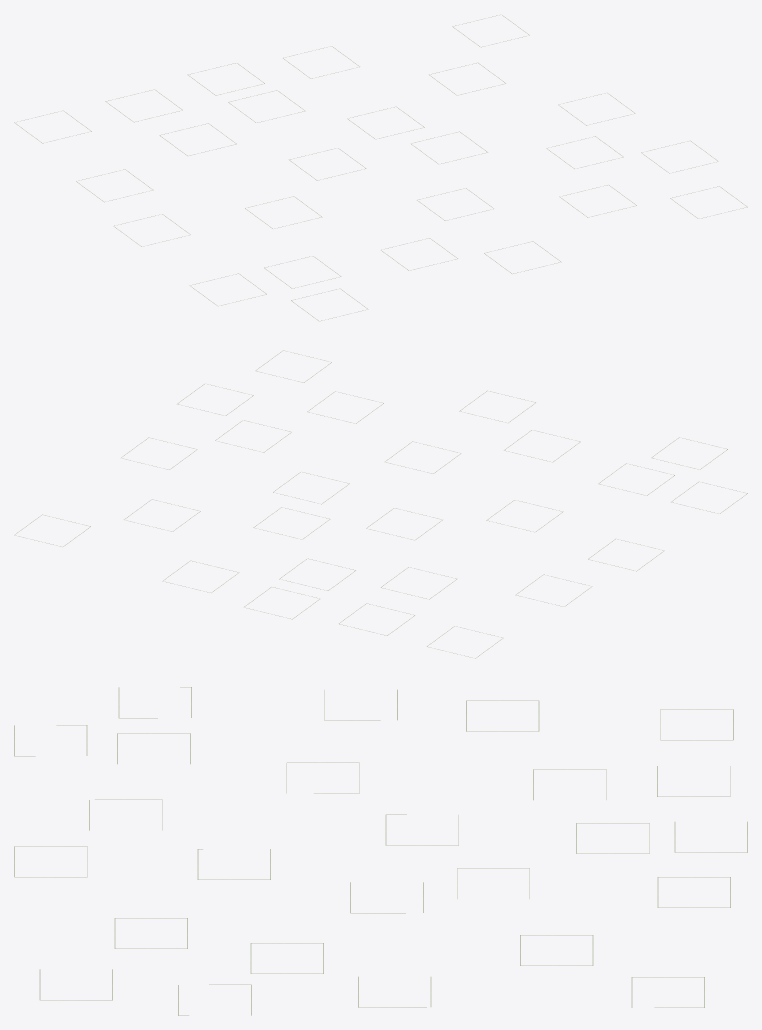
File: xiankuang01.FBX
3 renders of one model, top to bottom at view 1: azimuth 30°, elevation 25°; view 2: azimuth 150°, elevation 25°; view 3: azimuth 270°, elevation 25°, orthographic. The views are drawn at different scales.
Visible parts, largest first — view 1: xiankuang01; view 2: xiankuang01; view 3: xiankuang01.
Boxes of the visible parts, left/top/right/bottom form: xiankuang01: left=14, top=14, right=747, bottom=321; xiankuang01: left=14, top=350, right=747, bottom=658; xiankuang01: left=14, top=687, right=747, bottom=1015.
Bounding box in the file's own units: 67891 × 5.65 × 64085.
